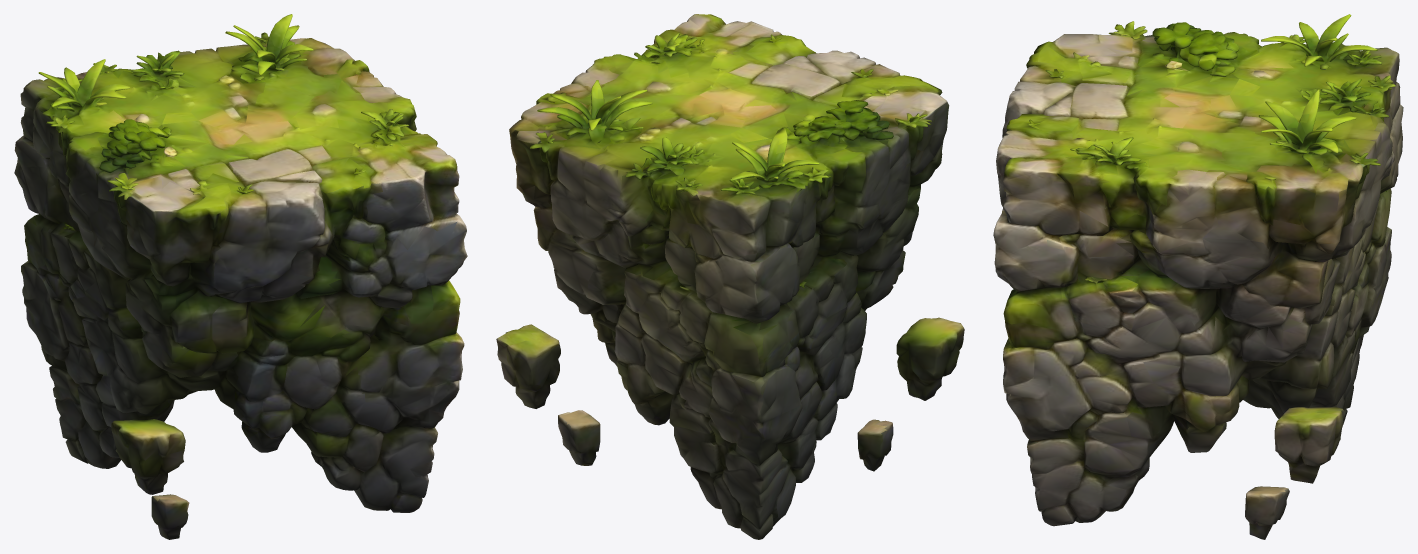
The model's file is Island_SteppingStone.fbx.
The picture shows the model from 3 angles, left to right: view 1: azimuth 30°, elevation 25°; view 2: azimuth 150°, elevation 25°; view 3: azimuth 270°, elevation 25°; orthographic projection. The views are drawn at different scales.
Visible parts, largest first — view 1: Island_SteppingStone; view 2: Island_SteppingStone; view 3: Island_SteppingStone.
Part boxes in pixels (bbox=[...]): Island_SteppingStone: bbox=[14, 14, 467, 539]; Island_SteppingStone: bbox=[496, 14, 964, 539]; Island_SteppingStone: bbox=[993, 14, 1403, 539].
Bounding box in the file's own units: 340 × 380 × 340.
Materials: 1 (1 with a texture image).
